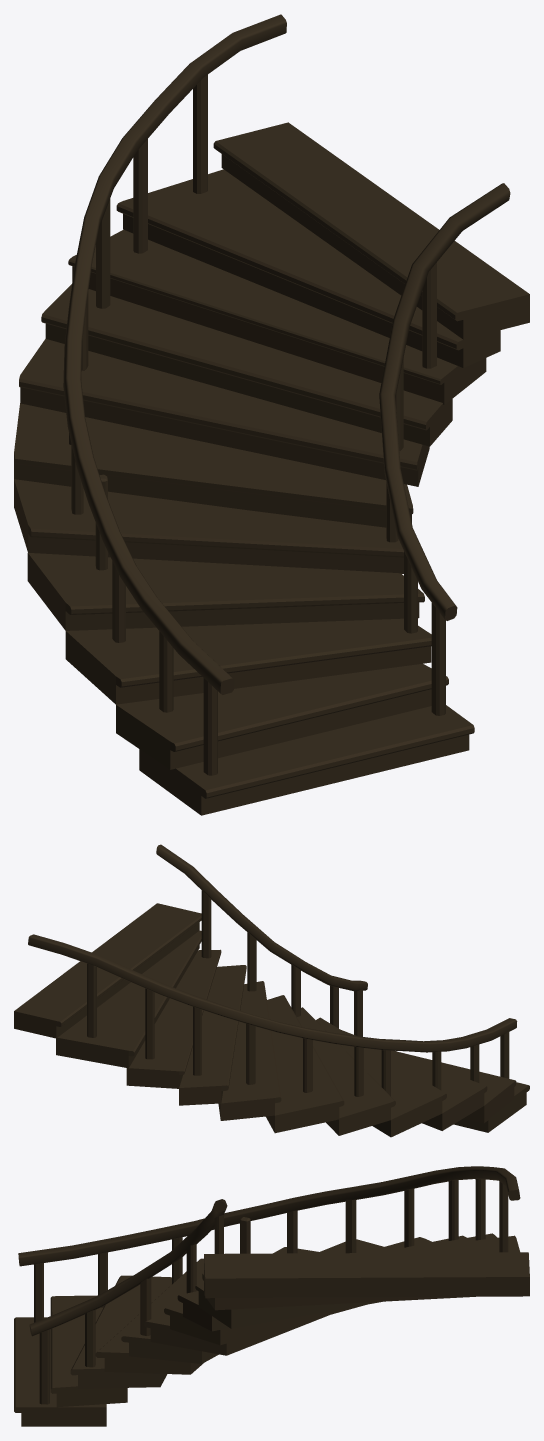
Rendered from Stairs_Foyer 1.fbx.
3 renders of one model, top to bottom at view 1: azimuth 30°, elevation 25°; view 2: azimuth 150°, elevation 25°; view 3: azimuth 270°, elevation 25°, orthographic. The views are drawn at different scales.
Visible parts, largest first — view 1: pCube65, pCube59, pCube37, pCube58, pCube61, pCube60, pCube57, pCube36, pCube62, pCube64, pCube63, sweep1 (+10 smaller); view 2: pCube65, pCube37, sweep1, pCube59, pCube36, pCube57, pCube58, pCube60, pCube61, sweep2, pCube62, pCube64 (+16 smaller); view 3: pCube65, sweep1, pCube63, pCube62, pCube64, pCube61, pCube37, sweep2, pCube59, pCube58, pCube36, pCube60 (+15 smaller).
Part boxes in pixels (<box>): pCube65: <box>213,122,529,339</box>; pCube59: <box>14,403,413,527</box>; pCube37: <box>116,169,500,367</box>; pCube58: <box>19,338,429,486</box>; pCube61: <box>27,553,424,630</box>; pCube60: <box>14,479,403,573</box>; pCube57: <box>41,284,452,446</box>; pCube36: <box>68,229,486,404</box>; pCube62: <box>65,618,431,704</box>; pCube64: <box>116,663,448,769</box>; pCube63: <box>139,705,474,815</box>; sweep1: <box>63,14,286,694</box>; pCube65: <box>14,903,201,1038</box>; pCube37: <box>56,930,201,1068</box>; sweep1: <box>28,934,517,1052</box>; pCube59: <box>266,995,344,1133</box>; pCube36: <box>126,949,221,1088</box>; pCube57: <box>179,965,246,1105</box>; pCube58: <box>218,981,281,1120</box>; pCube60: <box>297,1007,395,1135</box>; pCube61: <box>316,1017,446,1137</box>; sweep2: <box>156,844,367,991</box>; pCube62: <box>340,1029,487,1130</box>; pCube64: <box>399,1052,516,1123</box>; pCube65: <box>204,1252,529,1298</box>; sweep1: <box>18,1166,520,1266</box>; pCube63: <box>14,1317,106,1426</box>; pCube62: <box>70,1275,171,1388</box>; pCube64: <box>50,1295,127,1407</box>; pCube61: <box>95,1258,203,1374</box>; pCube37: <box>202,1235,519,1310</box>; sweep2: <box>29,1199,227,1336</box>; pCube59: <box>144,1239,383,1355</box>; pCube58: <box>164,1237,431,1345</box>; pCube36: <box>195,1233,497,1328</box>; pCube60: <box>121,1247,318,1363</box>.
Bounding box in the file's own units: 97.67 × 85.07 × 135.
